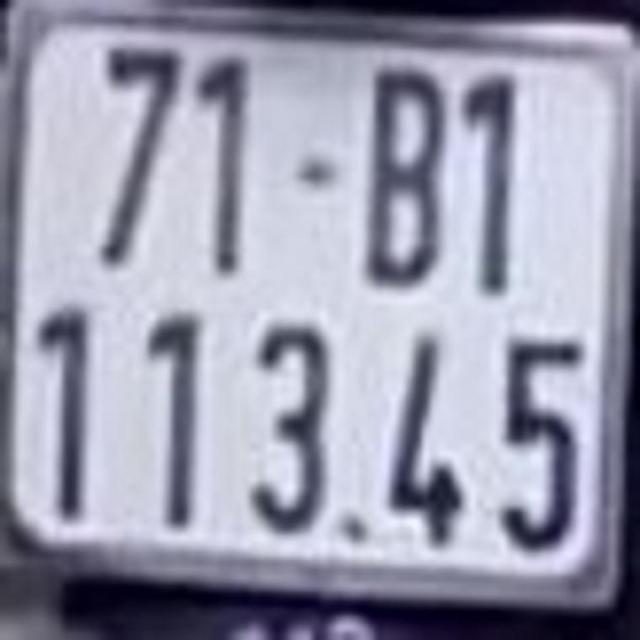1: (460, 71, 517, 299), (33, 299, 90, 520), (143, 302, 197, 524), (195, 42, 247, 269)
3: (254, 321, 327, 538)
4: (384, 319, 462, 556)
5: (488, 331, 578, 552)
7: (100, 37, 184, 264)
B: (348, 63, 449, 286)
